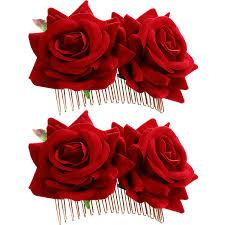Rose: (18, 113, 126, 205), (21, 6, 130, 96), (121, 111, 199, 215), (121, 8, 199, 103)
